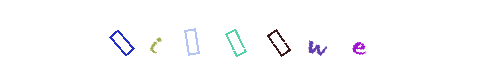4: (82, 0, 162, 80)
6: (186, 0, 266, 80), (195, 0, 275, 80)
9: (207, 0, 287, 80)
E: (294, 0, 374, 80)
I: (115, 0, 195, 80)
W: (238, 0, 318, 80)
